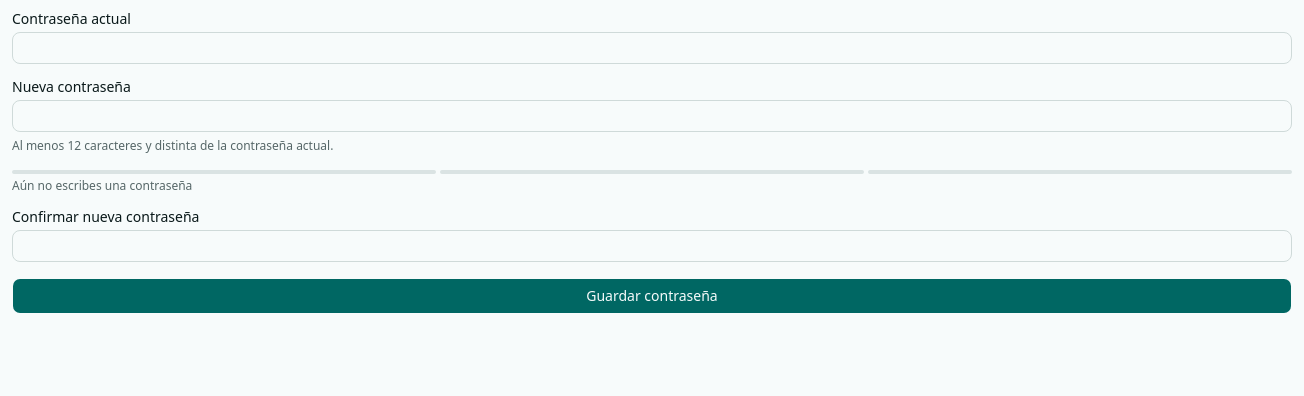
PasswordChangeForm: checks before it asks the API › asks for every field
This screenshot has width=1304, height=396.
Click the button "Guardar contraseña".
click(652, 296)  # box [12, 278, 1292, 314]
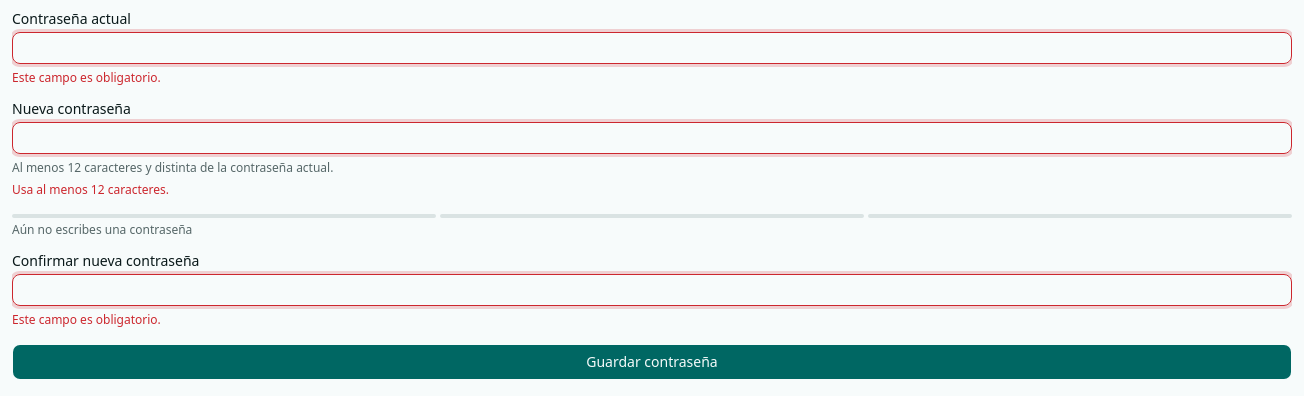
Check: the text "Este campo es obligatorio." is shown 2 times, box [12, 69, 161, 86]; [12, 311, 161, 328]
Check: the text "Usa al menos 12 caracteres." is shown, box [12, 181, 169, 198]
